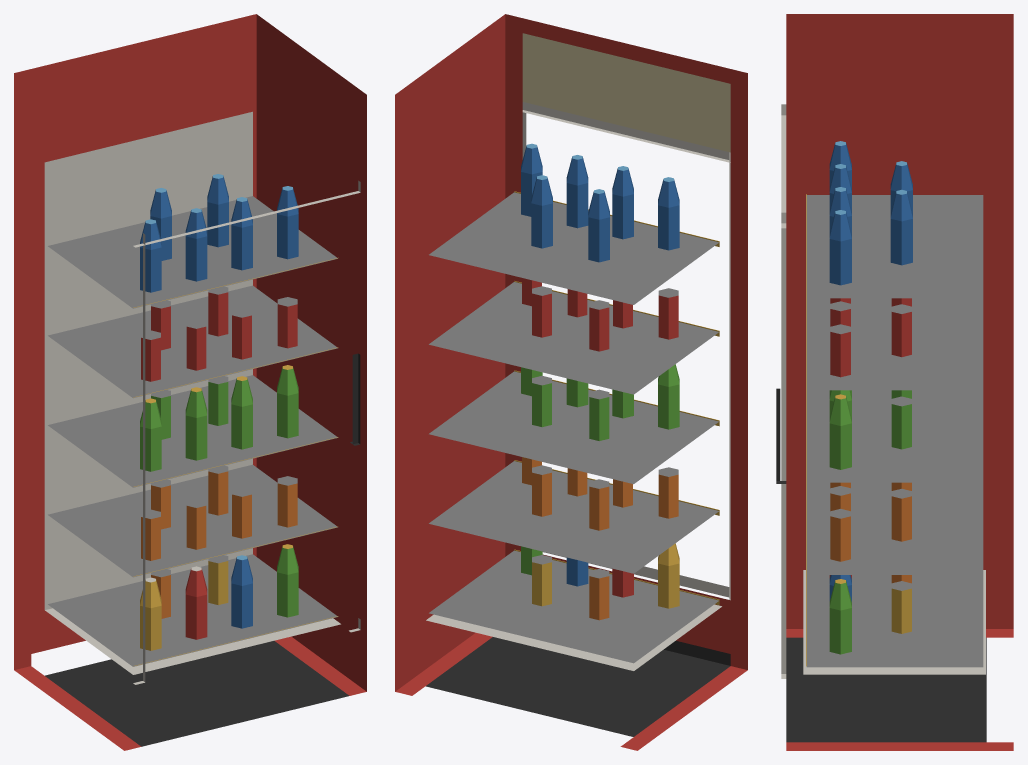
Rendered from icecek_dolabi.glb.
The picture shows the model from 3 angles, left to right: view 1: azimuth 30°, elevation 25°; view 2: azimuth 150°, elevation 25°; view 3: azimuth 270°, elevation 25°; orthographic projection. The views are drawn at different scales.
Visible parts, largest first — view 1: icecek_dolabi; view 2: icecek_dolabi; view 3: icecek_dolabi.
Part boxes in pixels (x1,y1,x2,y2): icecek_dolabi: (14,14,366,750); icecek_dolabi: (395,14,747,750); icecek_dolabi: (776,14,1013,750).
Size of the model in its own units: 0.85 by 2 by 0.7.
